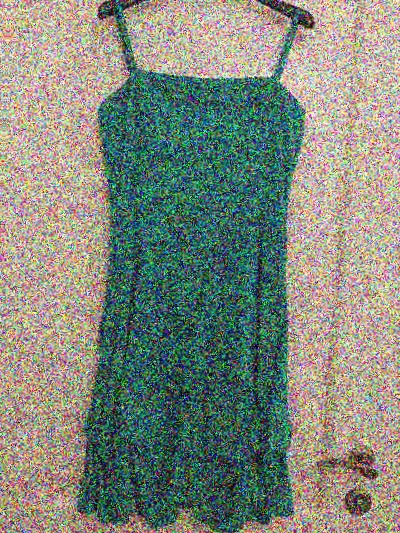Dress: (44, 8, 362, 533)
